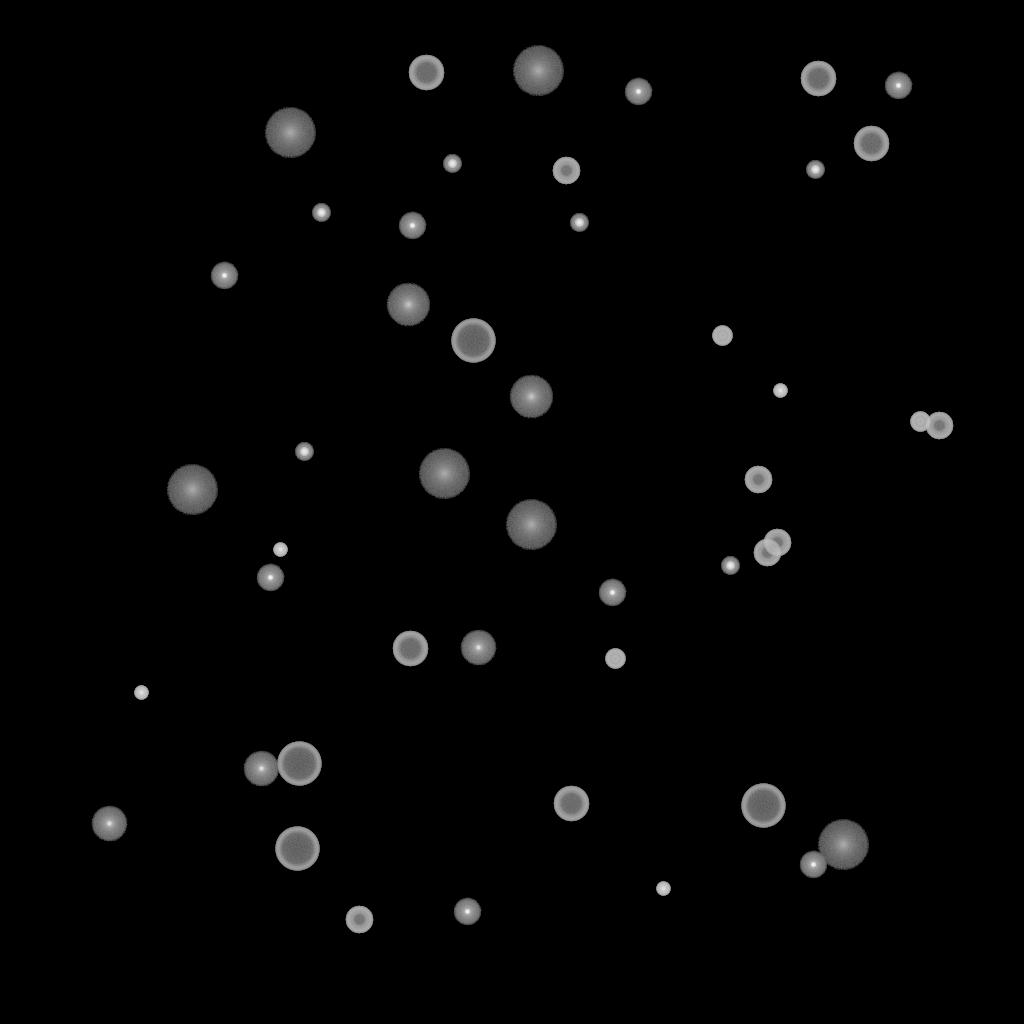depth:-10: (884, 72, 912, 100), (210, 262, 238, 290), (398, 212, 426, 240), (256, 564, 284, 592), (453, 898, 481, 926), (598, 579, 626, 607), (624, 78, 652, 106), (799, 851, 827, 879)
depth:-20: (443, 155, 461, 173), (806, 161, 824, 179), (295, 443, 313, 461), (721, 557, 739, 575), (570, 214, 588, 232), (312, 204, 330, 222)
depth:-30: (134, 686, 148, 700), (656, 882, 670, 896), (773, 384, 787, 398), (273, 543, 287, 557)
depth:-40: (605, 649, 625, 669), (712, 326, 732, 346), (910, 412, 930, 432)
depth:-50: (744, 466, 772, 494), (552, 157, 580, 185), (753, 539, 781, 567), (763, 529, 791, 557), (925, 412, 953, 440), (345, 906, 373, 934)
depth:-60: (392, 631, 428, 667), (800, 61, 836, 97), (408, 55, 444, 91), (553, 786, 589, 822), (853, 126, 889, 162)
depth:-70: (451, 319, 495, 363), (275, 827, 319, 871), (277, 742, 321, 786), (741, 784, 785, 828)
depth:0: (243, 751, 279, 787), (460, 630, 496, 666), (91, 806, 127, 842)
depth:10: (509, 375, 553, 419), (386, 283, 430, 327)
depth:20: (166, 465, 218, 515), (817, 820, 869, 870), (264, 108, 316, 158), (505, 500, 557, 550), (418, 449, 470, 499), (512, 46, 564, 96)
